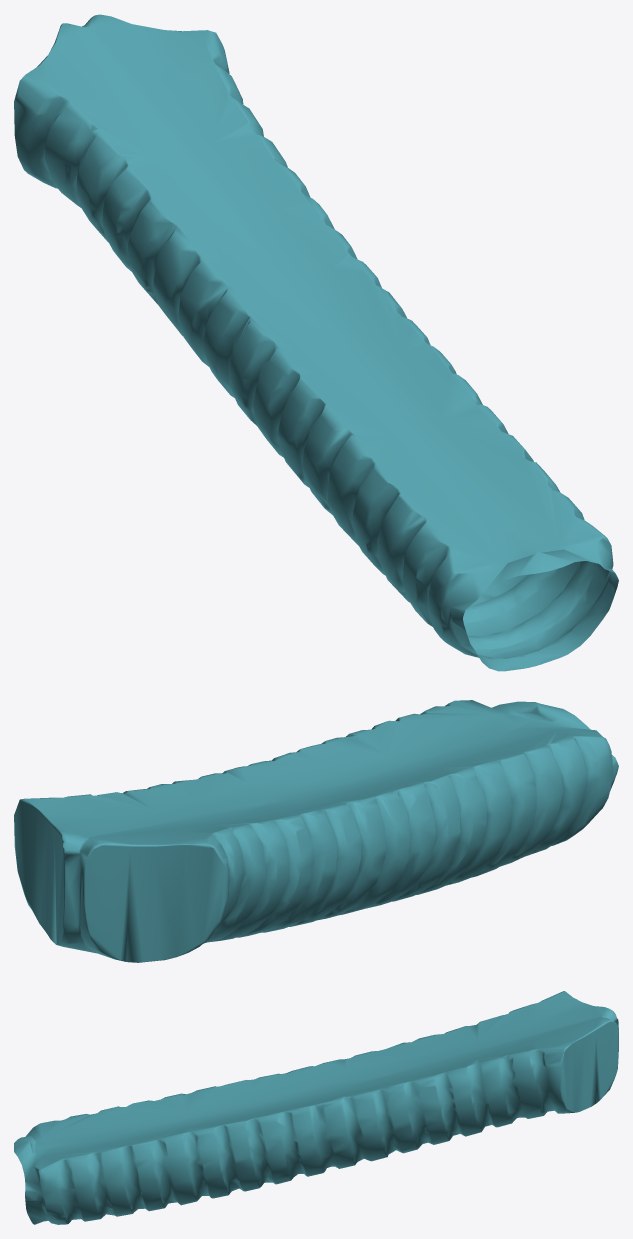
The picture shows the model from 3 angles, top to bottom: view 1: azimuth 30°, elevation 25°; view 2: azimuth 150°, elevation 25°; view 3: azimuth 270°, elevation 25°; orthographic projection. The views are drawn at different scales.
Visible parts, largest first — view 1: 气管; view 2: 气管; view 3: 气管.
Boxes of the visible parts, box(x1,y1,x2,y2) form: 气管: box(14, 14, 618, 671); 气管: box(14, 700, 618, 962); 气管: box(14, 991, 618, 1224).
Size of the model in its own units: 0.04 by 0.0574 by 0.1553.
